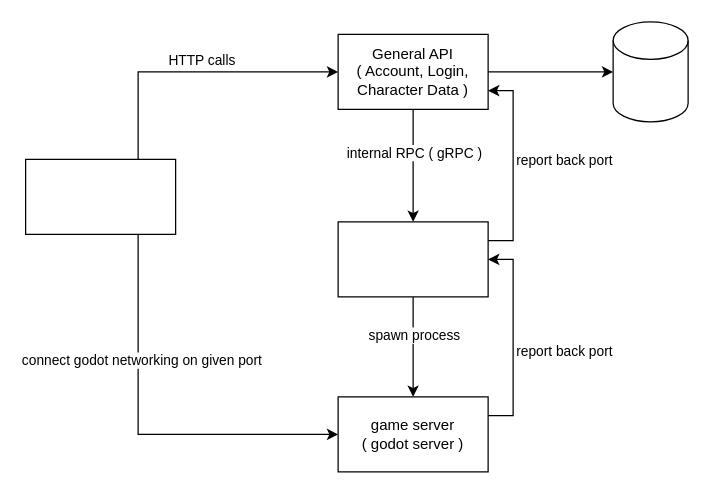
This 710x494 diagram has some shape labels left out. The shapes that lost their labels are listed below. From the top down, each one's centre as x and y in pixels, then its label:
point (100, 196): Game client
point (412, 259): Game Server Manager
